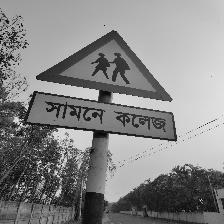College-in-front: (34, 30, 224, 151)
